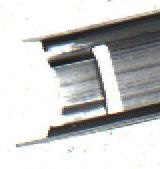press: (14, 16, 147, 147)
